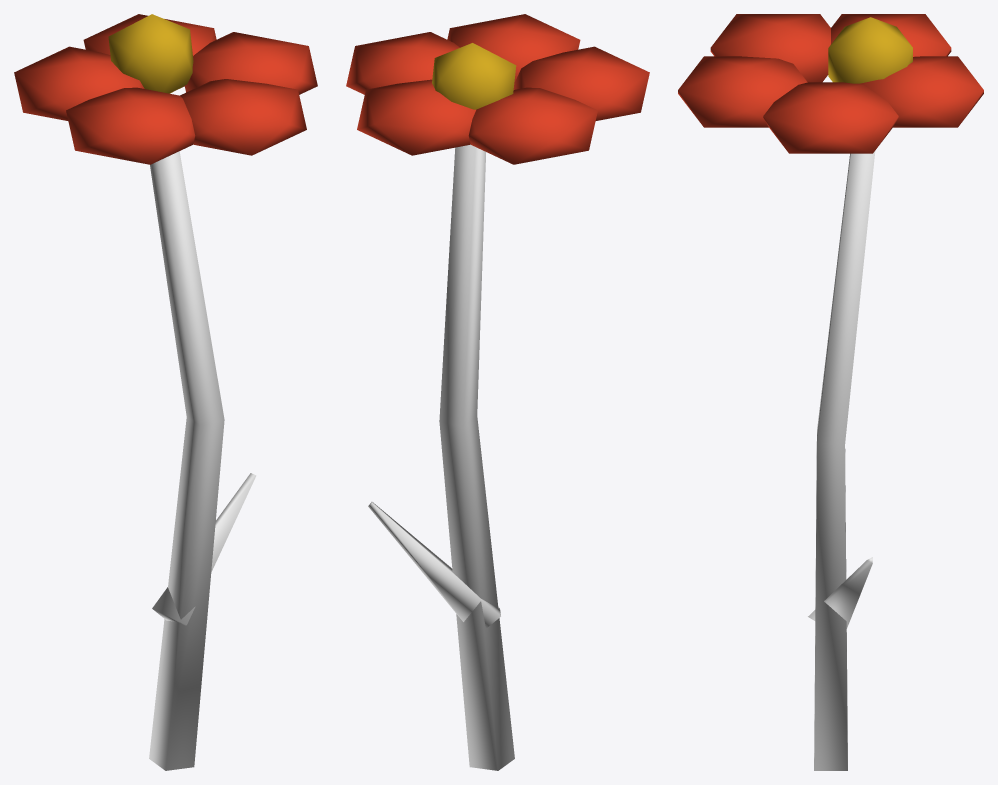
File: life_fruit_plant_v0.glb
The picture shows the model from 3 angles, left to right: view 1: azimuth 30°, elevation 25°; view 2: azimuth 150°, elevation 25°; view 3: azimuth 270°, elevation 25°; orthographic projection.
Parts seen in each view (by area): view 1: life_fruit_plant_v0; view 2: life_fruit_plant_v0; view 3: life_fruit_plant_v0.
Part boxes in pixels (x1=…): life_fruit_plant_v0: x1=14, y1=14, x2=317, y2=770; life_fruit_plant_v0: x1=346, y1=14, x2=649, y2=770; life_fruit_plant_v0: x1=678, y1=14, x2=983, y2=770.
Bounding box in the file's own units: 0.153 × 0.4141 × 0.1536.
